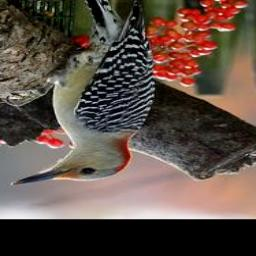Woodpecker: (1, 0, 156, 191)
